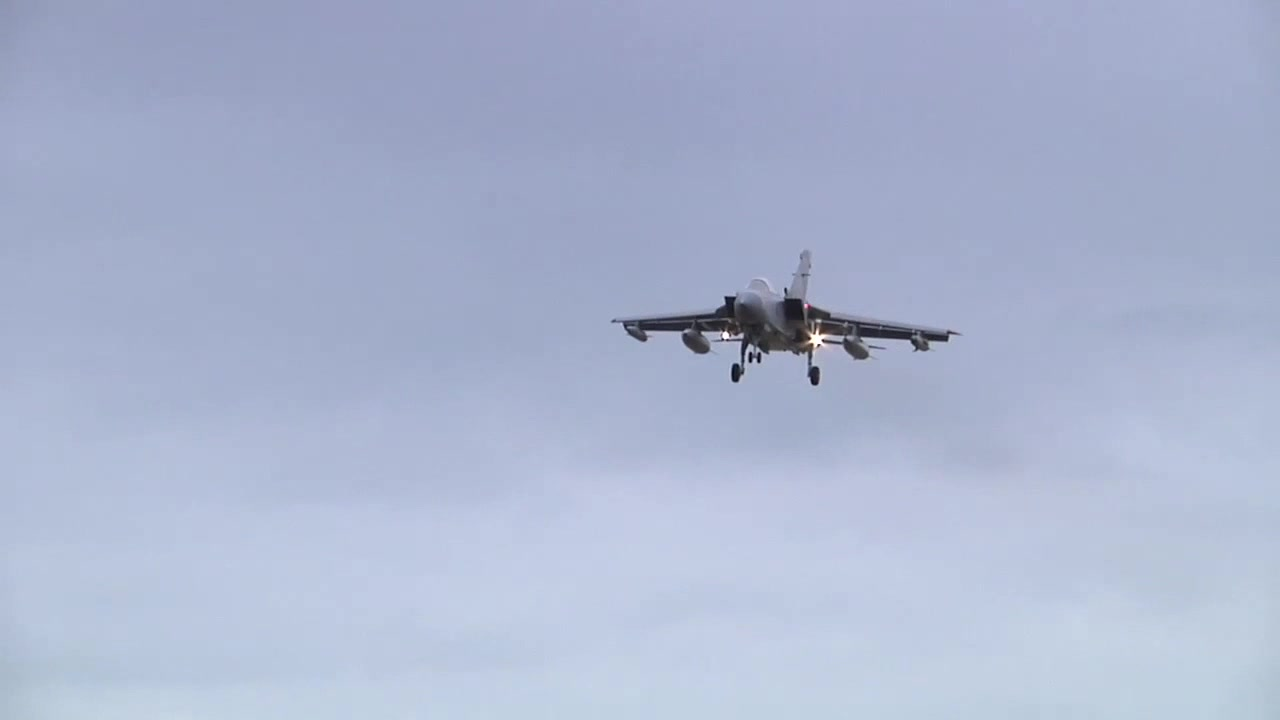aeroplane: (611, 245, 964, 390)
